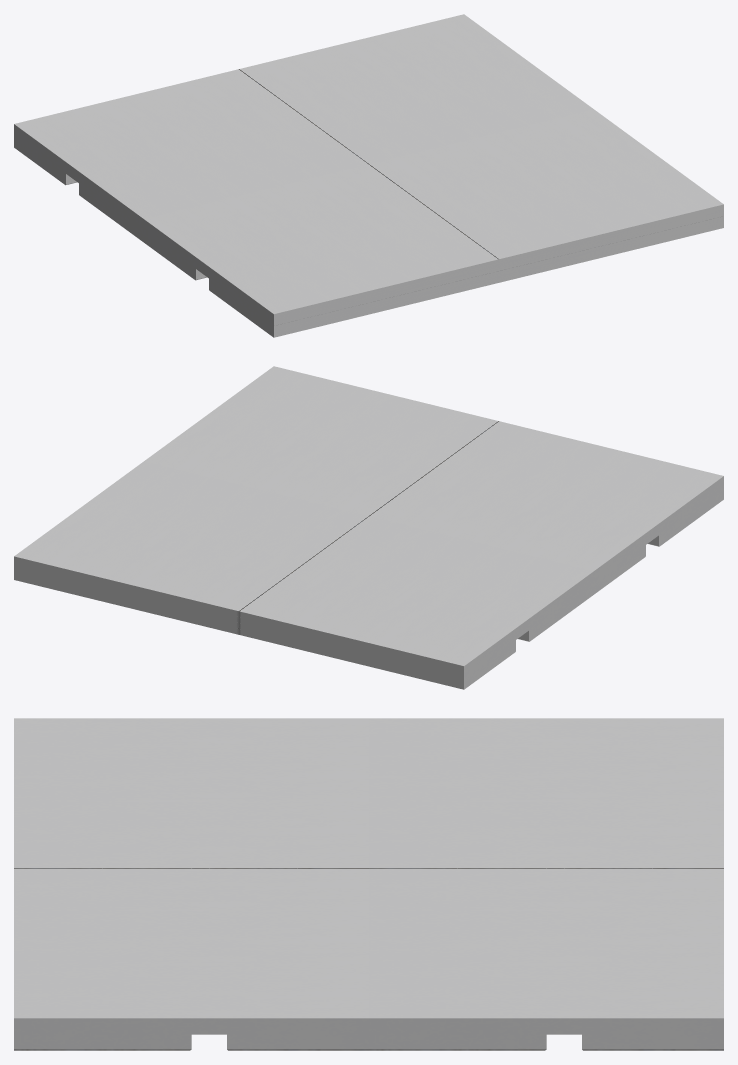
The model's file is Ceiling.fbx.
3 renders of one model, top to bottom at view 1: azimuth 30°, elevation 25°; view 2: azimuth 150°, elevation 25°; view 3: azimuth 270°, elevation 25°, orthographic. The views are drawn at different scales.
Visible parts, largest first — view 1: Ceiling; view 2: Ceiling; view 3: Ceiling.
Part boxes in pixels (x1,y1,x2,y2): Ceiling: [14, 14, 723, 337]; Ceiling: [14, 366, 723, 689]; Ceiling: [14, 718, 723, 1050].
Size of the model in its own units: 4 by 0.2 by 4.
